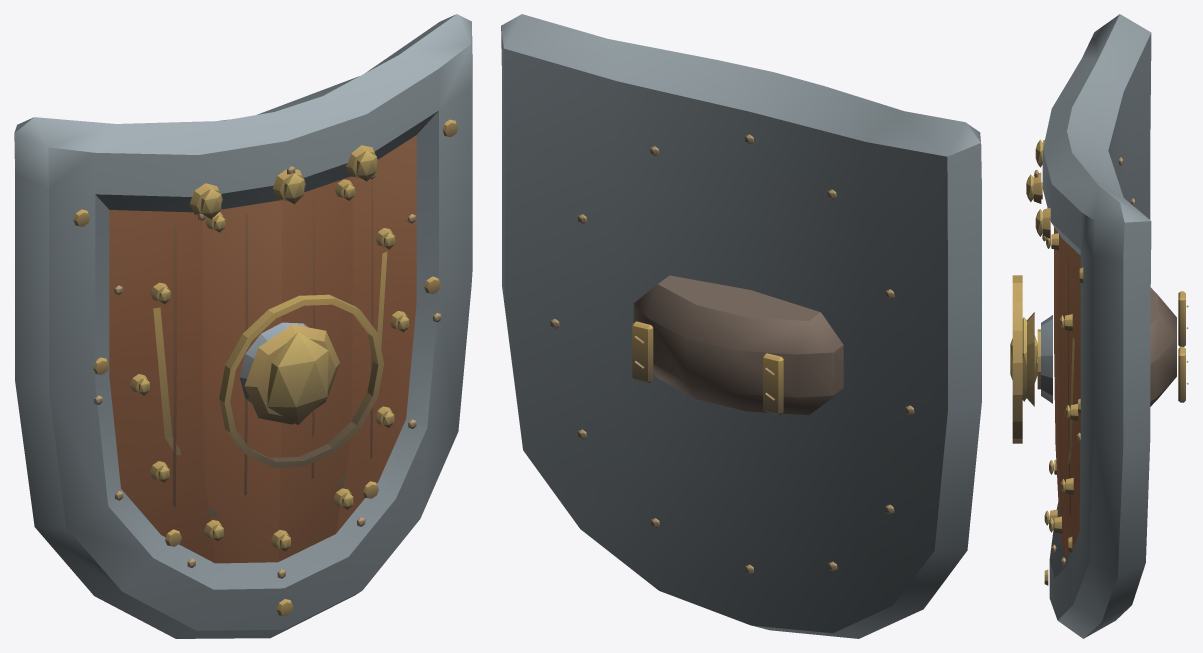
Rendered from escudo_runico_t4.glb.
The picture shows the model from 3 angles, left to right: view 1: azimuth 30°, elevation 25°; view 2: azimuth 150°, elevation 25°; view 3: azimuth 270°, elevation 25°; orthographic projection. The views are drawn at different scales.
Parts seen in each view (by area): view 1: escudo_runico_t4_finished; view 2: escudo_runico_t4_finished; view 3: escudo_runico_t4_finished.
Part boxes in pixels (x1,y1,x2,y2): escudo_runico_t4_finished: (14, 14, 472, 638); escudo_runico_t4_finished: (501, 14, 981, 638); escudo_runico_t4_finished: (1010, 14, 1188, 638).
Size of the model in its own units: 0.8826 by 1.02 by 0.326.
Materials: 2 (2 with a texture image).
